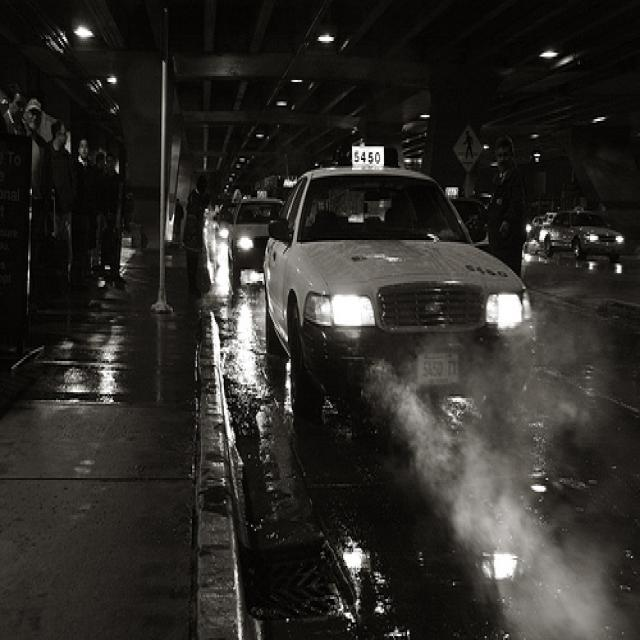People: (94, 137, 145, 343), (0, 78, 32, 406), (45, 112, 86, 345), (73, 128, 105, 346), (30, 68, 52, 335)
car: (272, 153, 534, 447), (549, 194, 628, 295), (213, 168, 293, 246), (530, 197, 563, 256)
